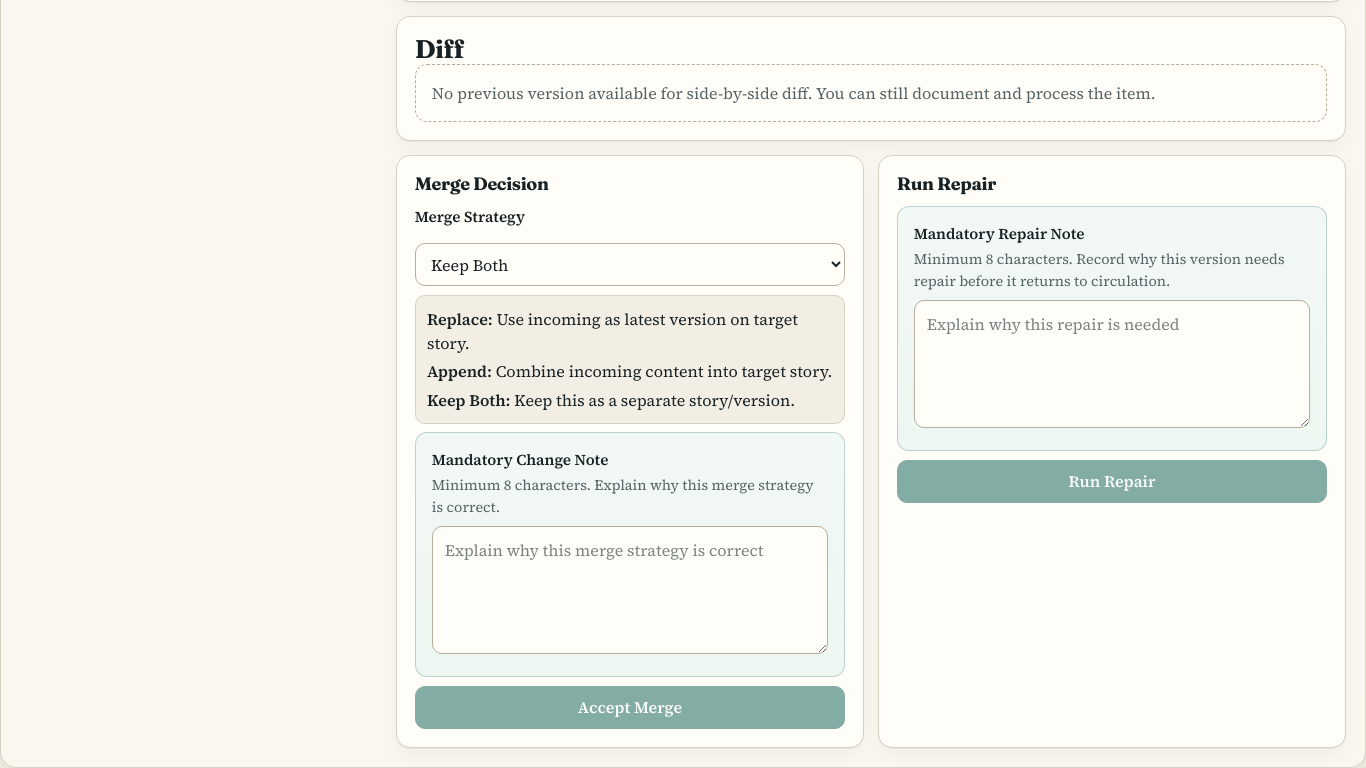
Test: Editor workflow integration › requires mandatory notes before merge/repair actions can execute
(page scrolled)
Check: the button "Accept Merge" is disabled, box [415, 686, 845, 729]
Check: the button "Run Repair" is disabled, box [897, 460, 1327, 503]
In the text box with placeholder "Explain why this merge strategy is correct": (630, 590) [432, 526, 828, 654], type "valid note for merge"
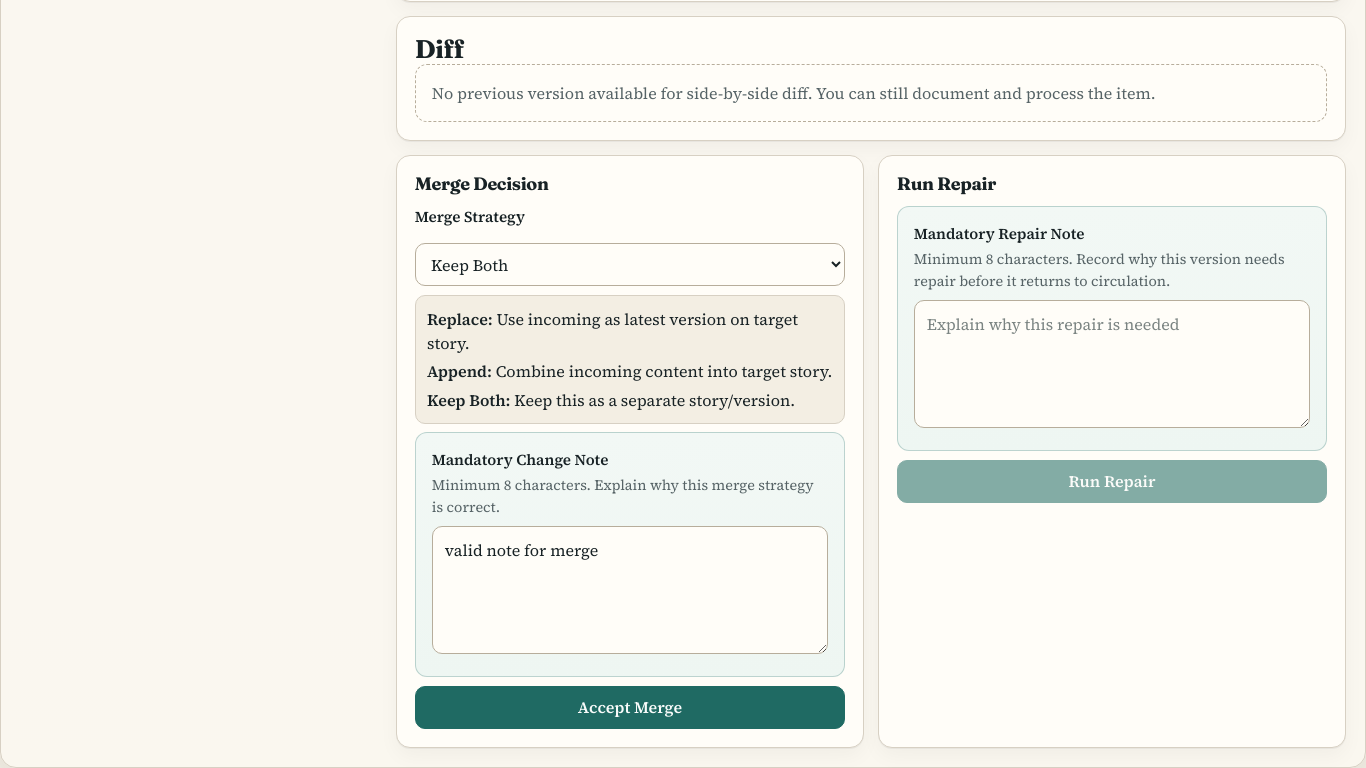
In the text box with placeholder "Explain why this repair is needed": (1112, 364) [914, 300, 1310, 428], type "valid note for repair"
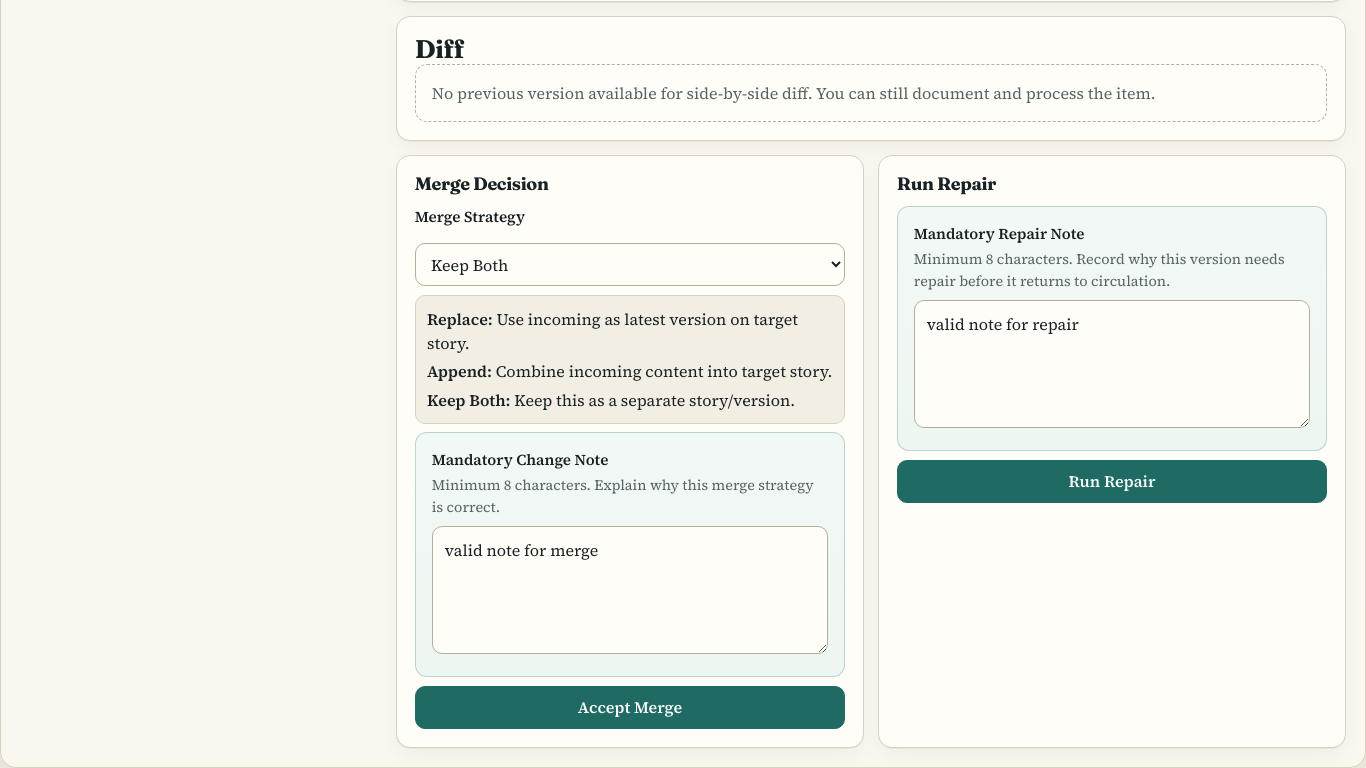
Check: the button "Accept Merge" is enabled, box [415, 686, 845, 729]
Check: the button "Run Repair" is enabled, box [897, 460, 1327, 503]
